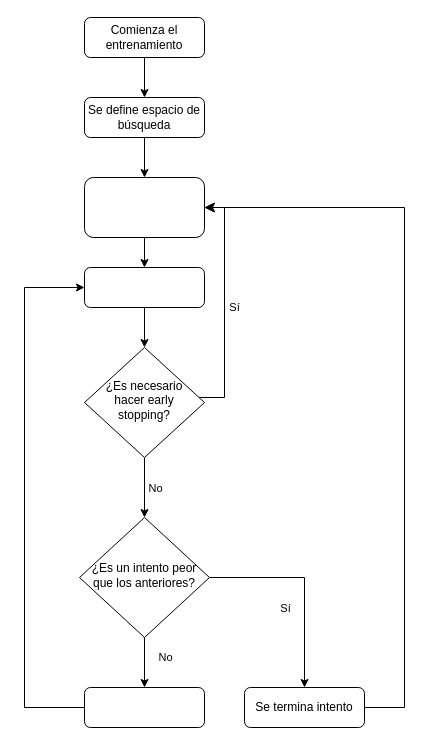
Image size: 430x745. Some labels were removed from this diagram. The centre of each missing label's shape, as x and y in pixels:
"Entrena una época" goes at [144,287].
"Se conecta a base de datos para obtener parámetros nuevos" goes at [144,207].
"Se guarda época" goes at [144,707].
